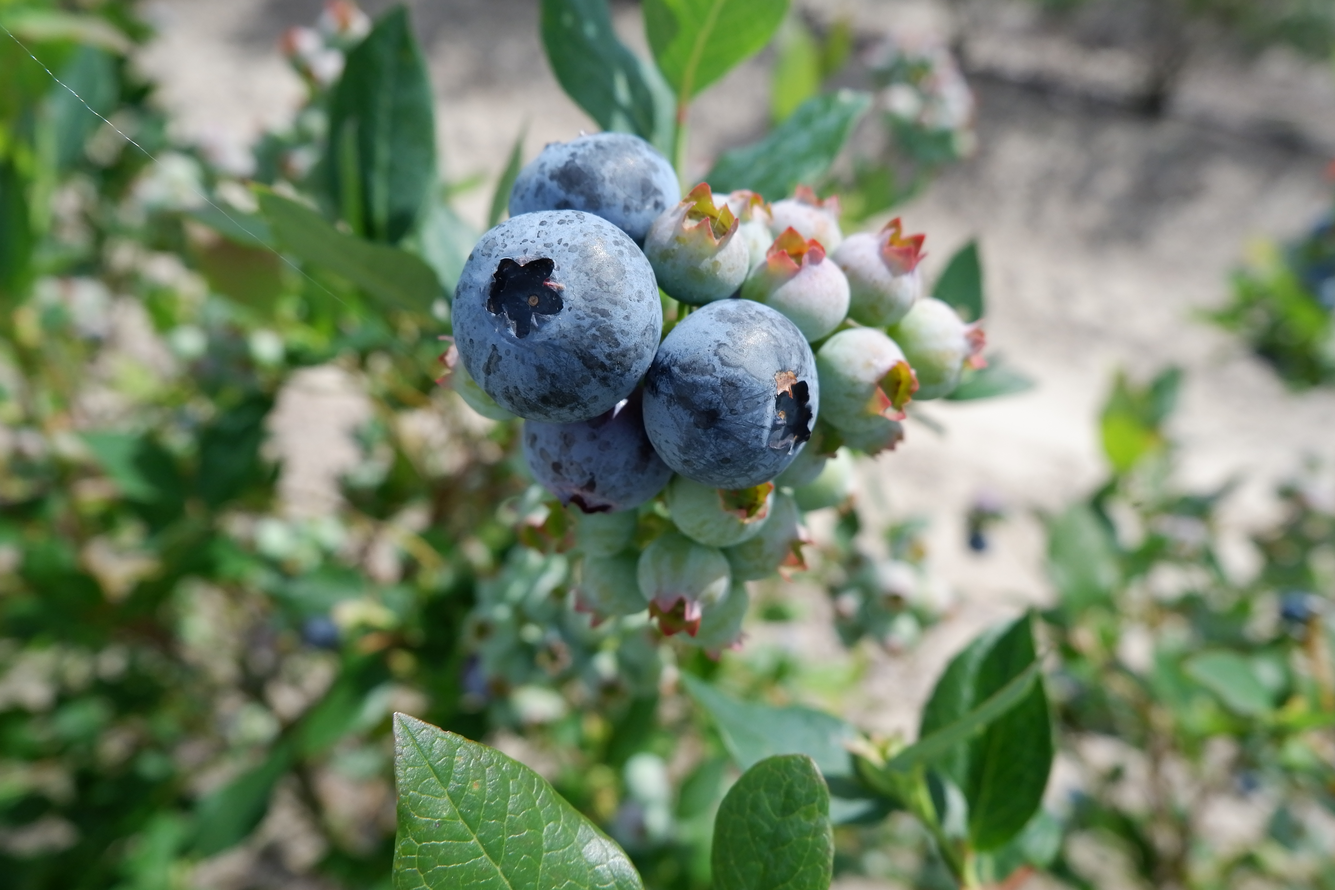Immature: (646, 190, 750, 302), (742, 231, 848, 335), (818, 331, 912, 433), (639, 527, 727, 632), (890, 301, 985, 397), (837, 222, 924, 326), (664, 477, 774, 547), (726, 491, 804, 578), (676, 578, 750, 661), (440, 343, 516, 418), (713, 190, 775, 277), (769, 185, 841, 249), (579, 551, 646, 616), (780, 427, 827, 488)
Mature: (453, 213, 657, 423), (642, 301, 818, 485), (511, 134, 677, 240), (524, 398, 669, 513)
